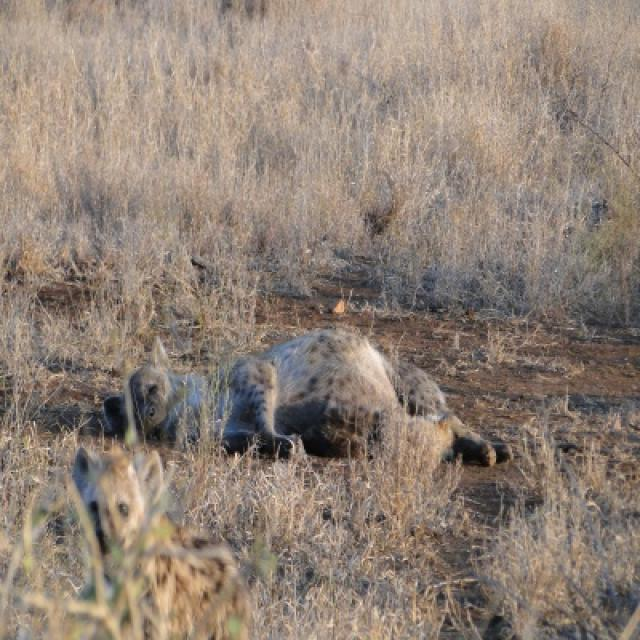hyena: (221, 330, 498, 466)
